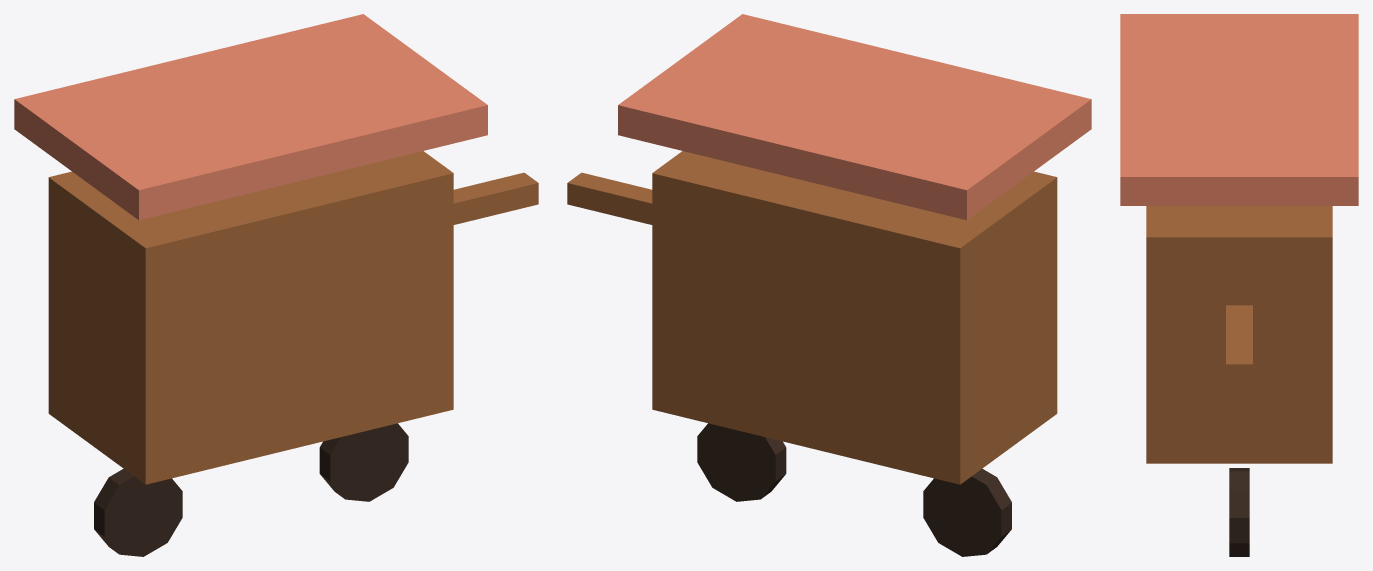
Rendered from prop_gerobak.fbx.
3 views of the same model, side by side, from view 1: azimuth 30°, elevation 25°; view 2: azimuth 150°, elevation 25°; view 3: azimuth 270°, elevation 25° (orthographic). The views are drawn at different scales.
Parts seen in each view (by area): view 1: prop_gerobak; view 2: prop_gerobak; view 3: prop_gerobak.
Part boxes in pixels (x1,y1,x2,y2): prop_gerobak: (14, 14, 538, 556); prop_gerobak: (567, 14, 1091, 556); prop_gerobak: (1120, 14, 1358, 556).
Size of the model in its own units: 222 by 197 by 105.
Materials: 1 (1 with a texture image).
